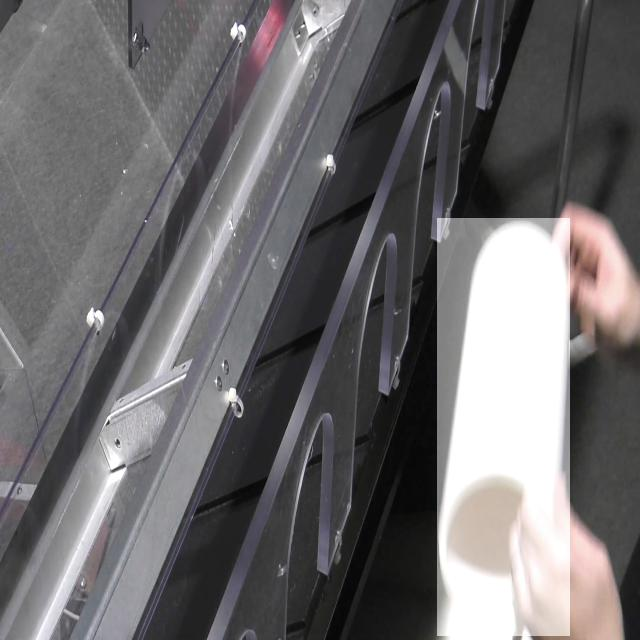Coral: (437, 218, 570, 636)
